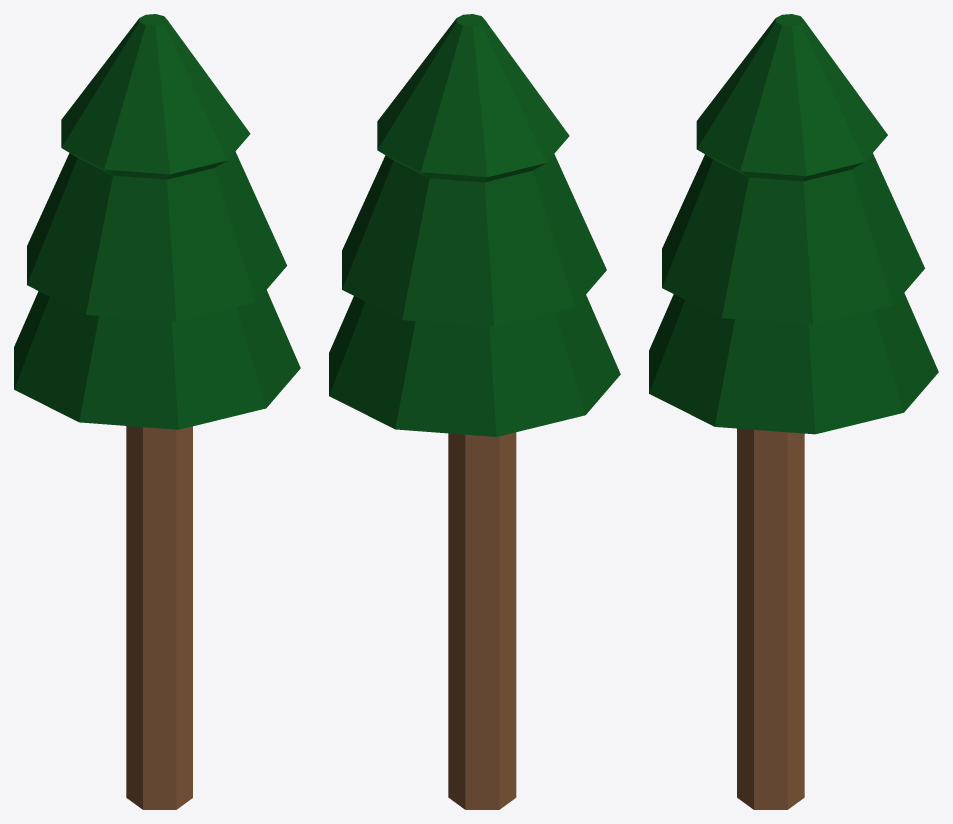
The model's file is tree_02.glb.
3 renders of one model, left to right at view 1: azimuth 30°, elevation 25°; view 2: azimuth 150°, elevation 25°; view 3: azimuth 270°, elevation 25°, orthographic.
Visible parts, largest first — view 1: body; view 2: body; view 3: body.
Part boxes in pixels (x1=…): body: x1=14, y1=14, x2=300, y2=809; body: x1=329, y1=14, x2=620, y2=809; body: x1=649, y1=14, x2=938, y2=809.
Bounding box in the file's own units: 0.6484 × 1.89 × 0.6386.
